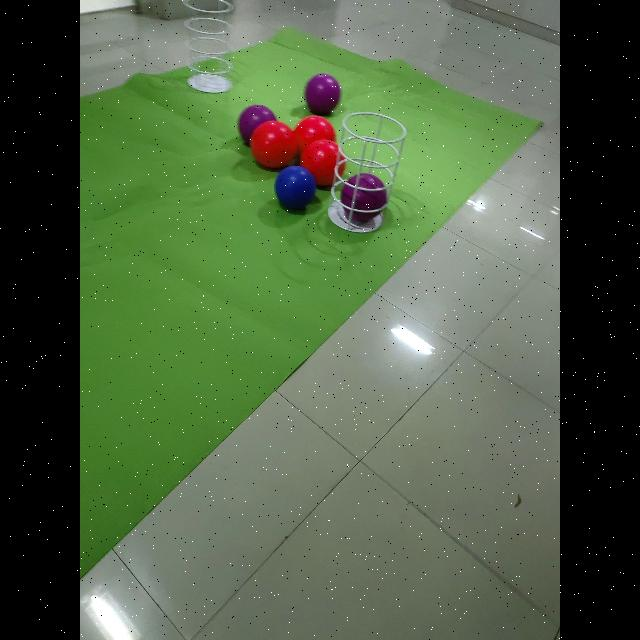B: (275, 165, 316, 208)
P: (344, 174, 386, 222), (239, 104, 276, 145), (305, 73, 340, 116)
R: (249, 120, 297, 168), (300, 139, 338, 186), (293, 116, 336, 154)
S: (332, 110, 412, 238), (181, 0, 237, 91)
